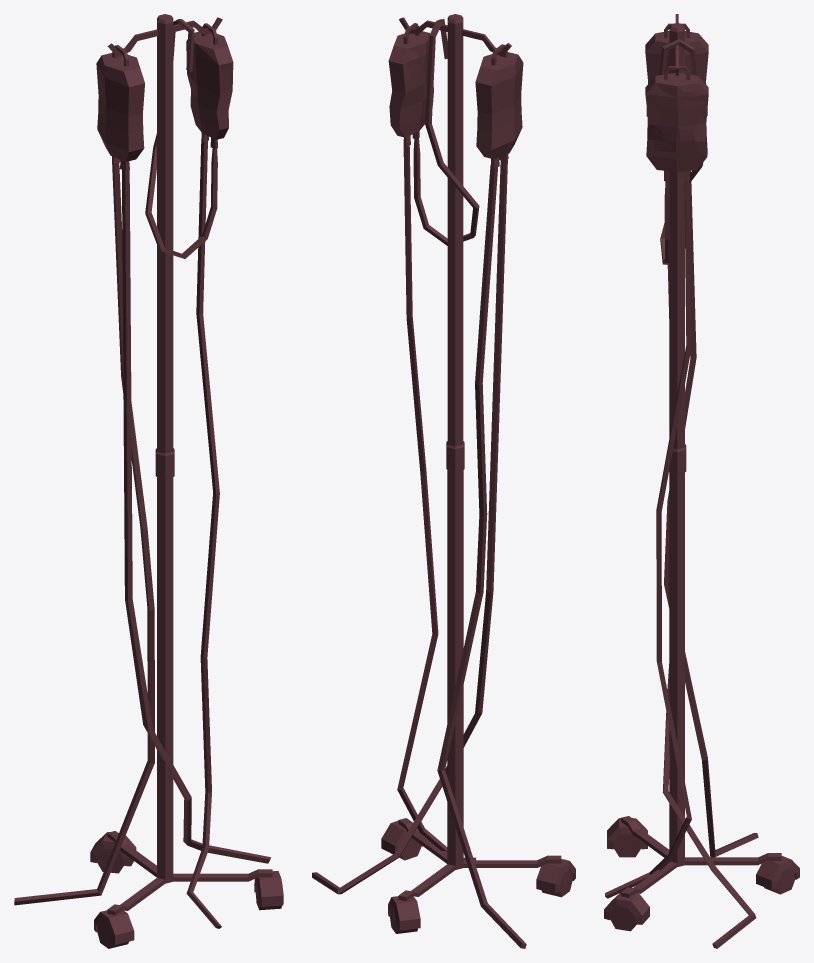
File: iv-pole-water-full.fbx
The picture shows the model from 3 angles, left to right: view 1: azimuth 30°, elevation 25°; view 2: azimuth 150°, elevation 25°; view 3: azimuth 270°, elevation 25°; orthographic projection. The views are drawn at different scales.
Visible parts, largest first — view 1: iv-pole-water-full; view 2: iv-pole-water-full; view 3: iv-pole-water-full.
Boxes of the visible parts, x1,y1,x2,y2 form: iv-pole-water-full: [14, 14, 283, 948]; iv-pole-water-full: [312, 14, 575, 948]; iv-pole-water-full: [604, 14, 799, 948].
Bounding box in the file's own units: 0.5482 × 1.96 × 0.4031.
